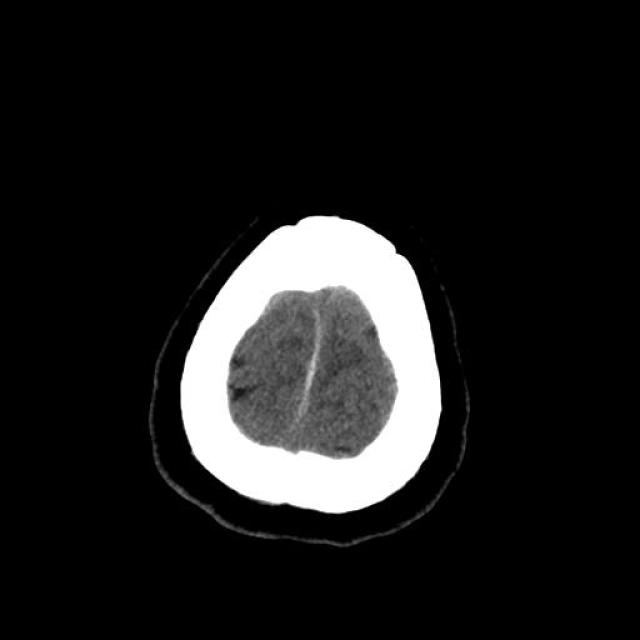Subdural: (268, 290, 342, 438)
